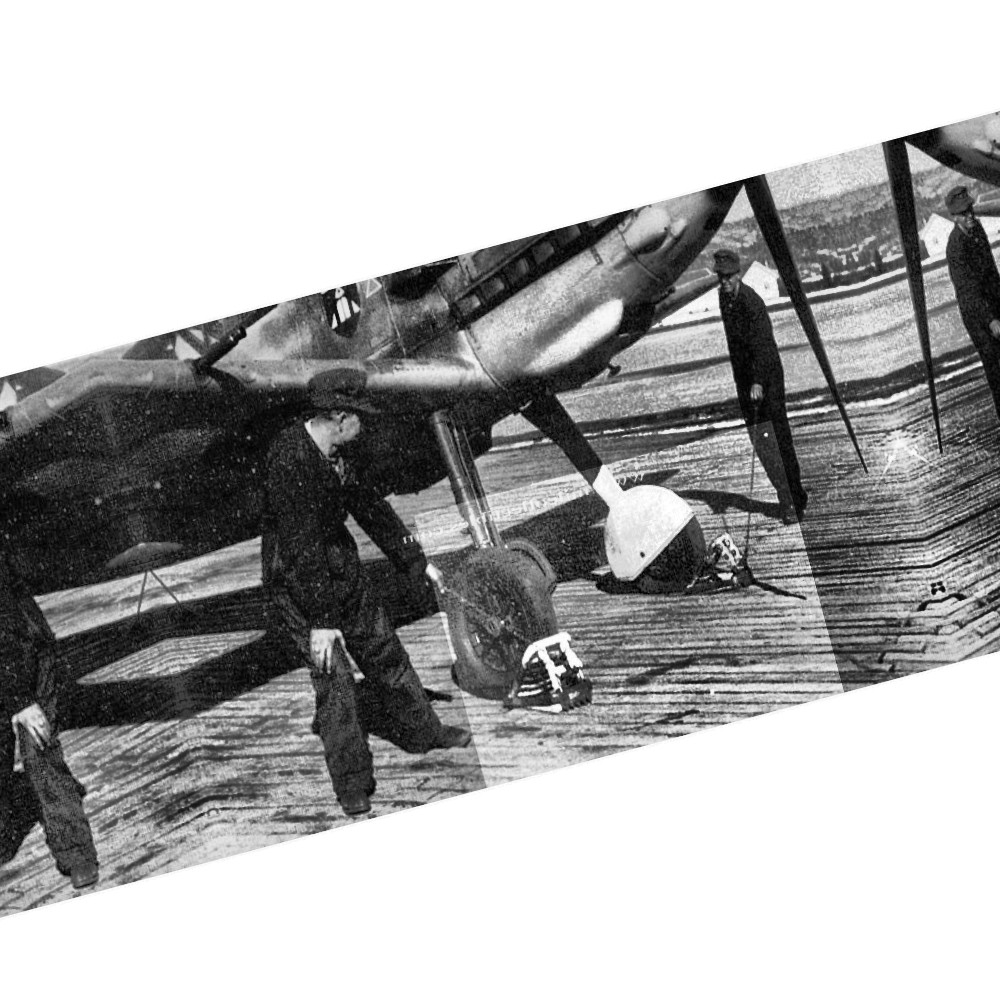chock: (485, 624, 599, 732), (674, 521, 761, 609)
wheel: (424, 529, 586, 710), (589, 464, 720, 606)
